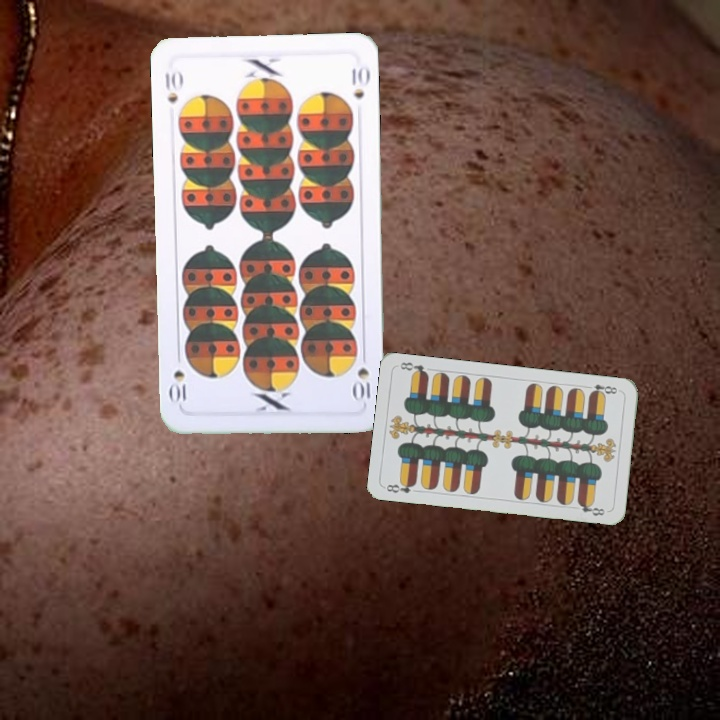E8: (582, 380, 620, 398), (382, 478, 418, 496)
S10: (351, 347, 373, 406), (160, 67, 185, 106)
